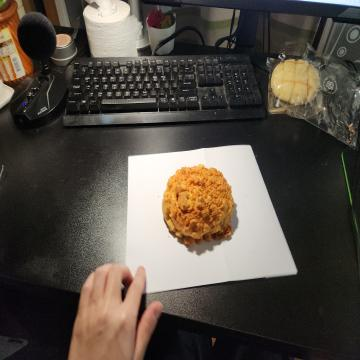soboru_bread: (166, 163, 236, 248)
